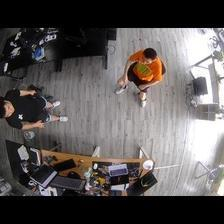normal: (115, 44, 167, 108), (1, 88, 69, 132)
